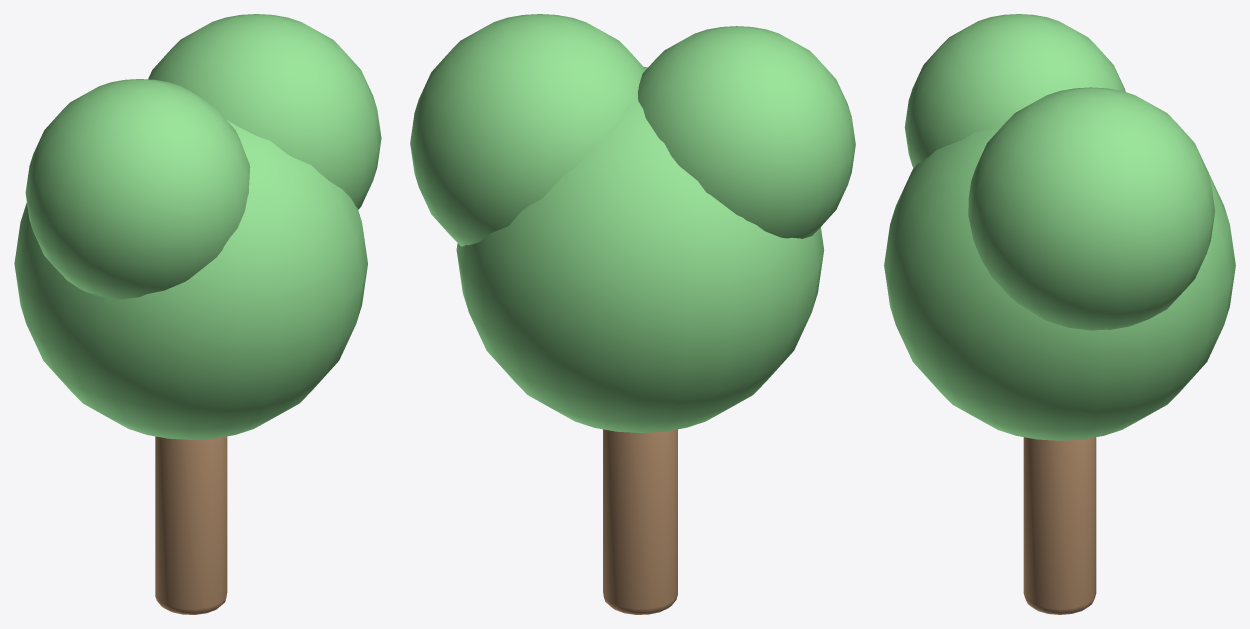
The model's file is tree.glb.
3 views of the same model, side by side, from view 1: azimuth 30°, elevation 25°; view 2: azimuth 150°, elevation 25°; view 3: azimuth 270°, elevation 25° (orthographic). The views are drawn at different scales.
Visible parts, largest first — view 1: Tree; view 2: Tree; view 3: Tree.
Part boxes in pixels (<box>): Tree: <box>14,14,381,614</box>; Tree: <box>410,14,855,614</box>; Tree: <box>884,14,1235,614</box>.
Bounding box in the file's own units: 4 × 5.8 × 3.4.
